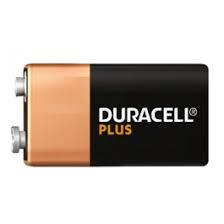9V Battery: (10, 64, 208, 165)
